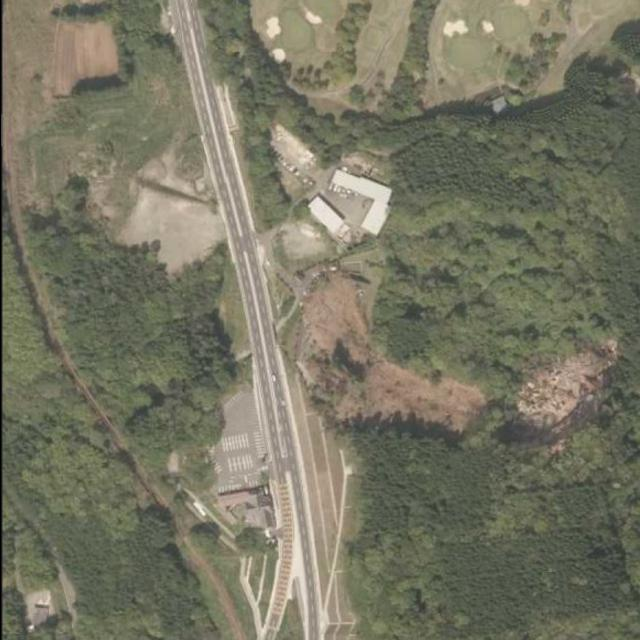landslide: (302, 275, 486, 440), (503, 340, 617, 446)
